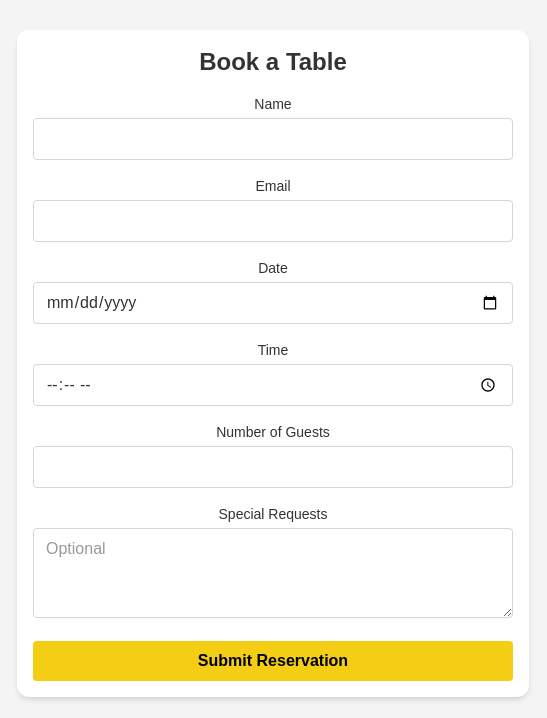
Test: BookingForm › disables submit button when there are validation errors
Step 1. Type "bademail" into the field labelled "Email" → {"x": 273, "y": 221}, box [33,200,513,242]
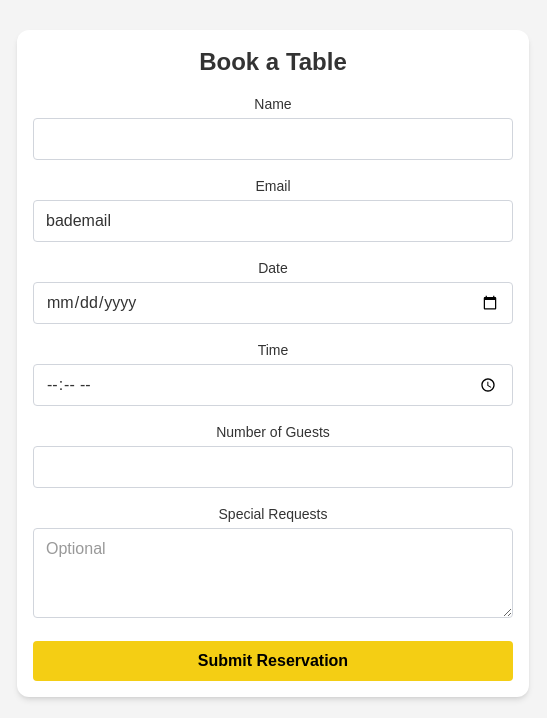
Step 2. Click the button "Submit Reservation" → {"x": 273, "y": 661}, box [33,641,513,681]
(page scrolled)
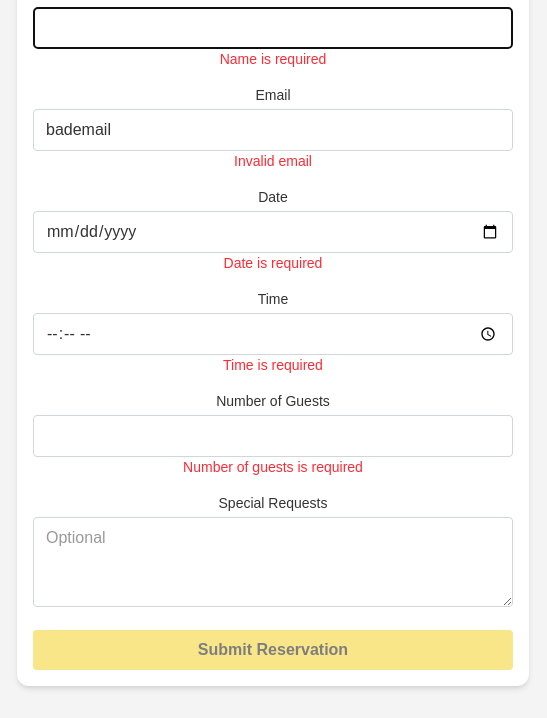
expect the button "Submit Reservation" is disabled: met, box [33,630,513,670]
